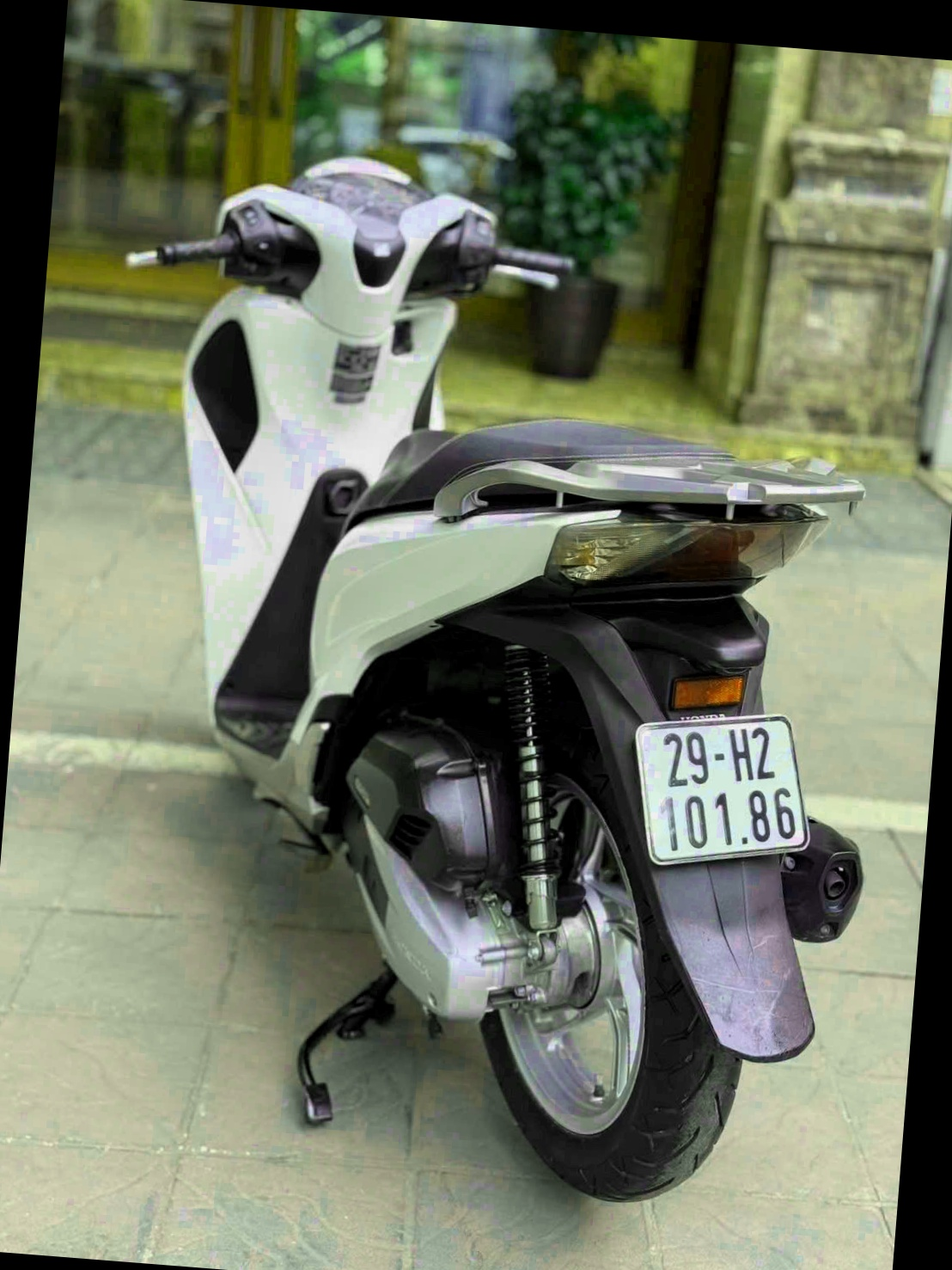Bien-so: (648, 657, 858, 833)
